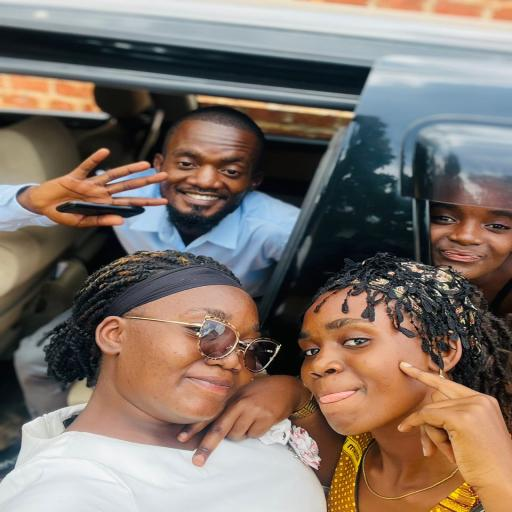MATTHIEU: (160, 100, 262, 232)
